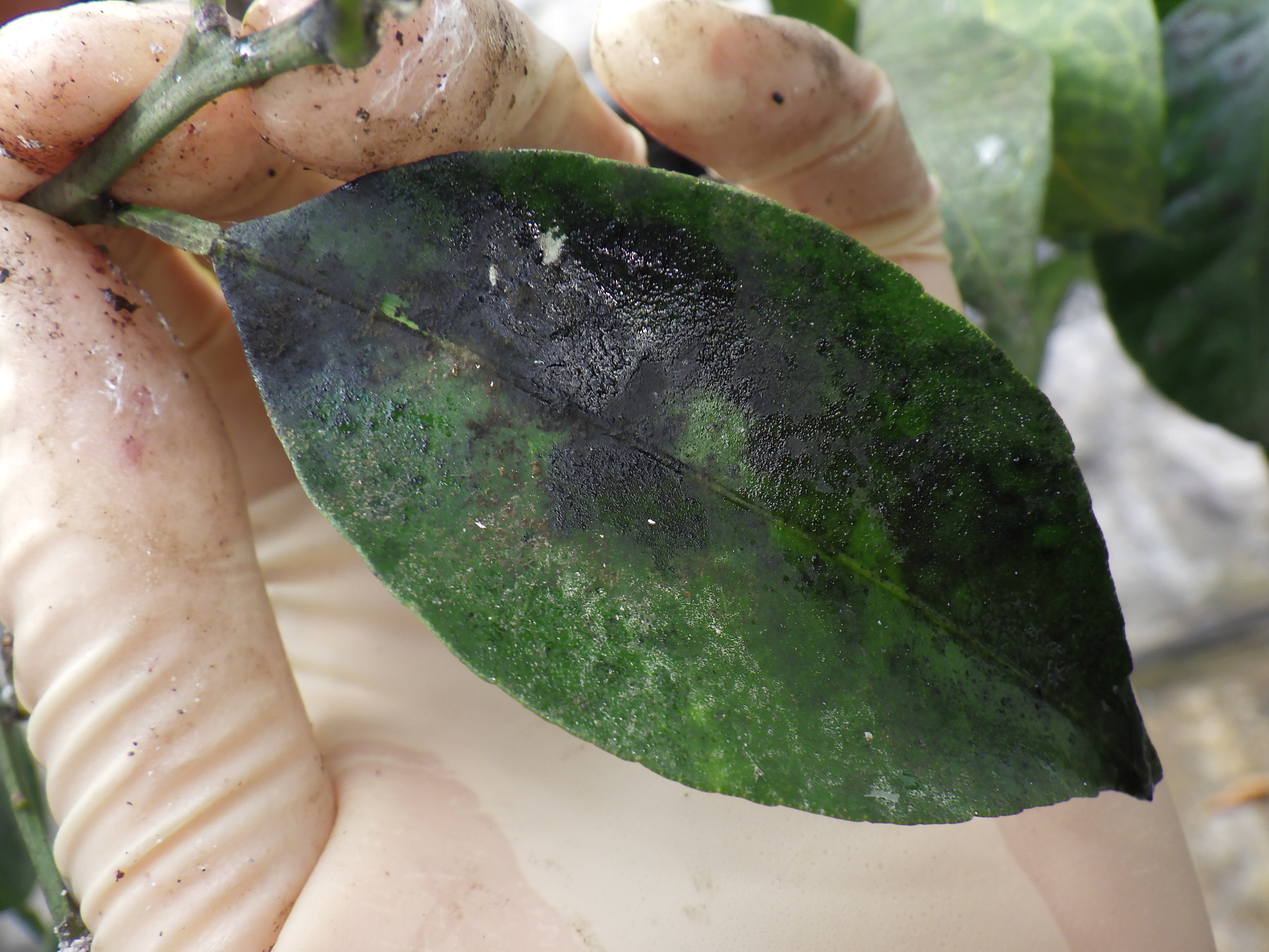Sooty_Mold: (213, 152, 1159, 823)
